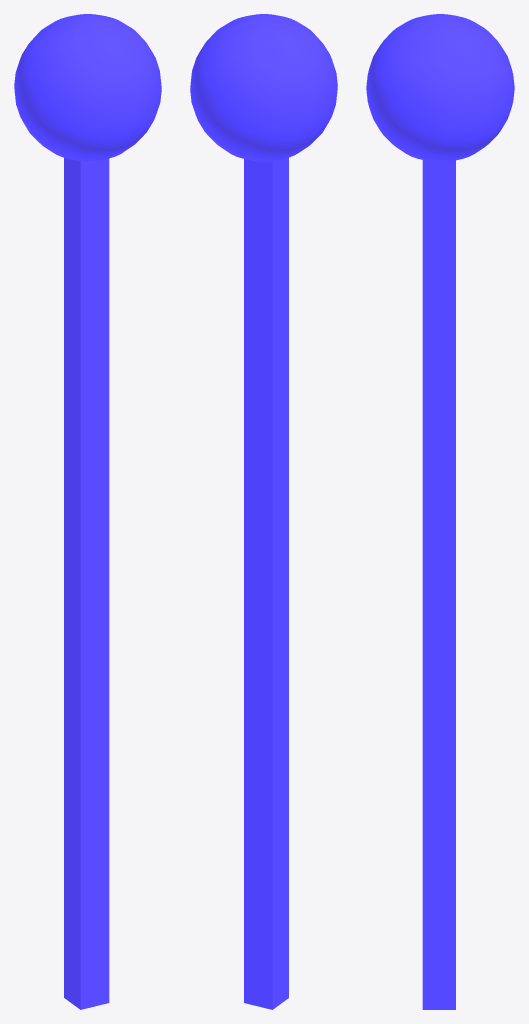
The model's file is ListCliPortrait.gltf.
3 views of the same model, side by side, from view 1: azimuth 30°, elevation 25°; view 2: azimuth 150°, elevation 25°; view 3: azimuth 270°, elevation 25° (orthographic).
Parts seen in each view (by area): view 1: ListnerModuli.004; view 2: ListnerModuli.004; view 3: ListnerModuli.004.
Part boxes in pixels (left/top/right/bottom): ListnerModuli.004: left=14, top=14, right=161, bottom=1009; ListnerModuli.004: left=190, top=14, right=337, bottom=1009; ListnerModuli.004: left=366, top=14, right=514, bottom=1009.
Bounding box in the file's own units: 0.0421 × 0.3074 × 0.0421.
